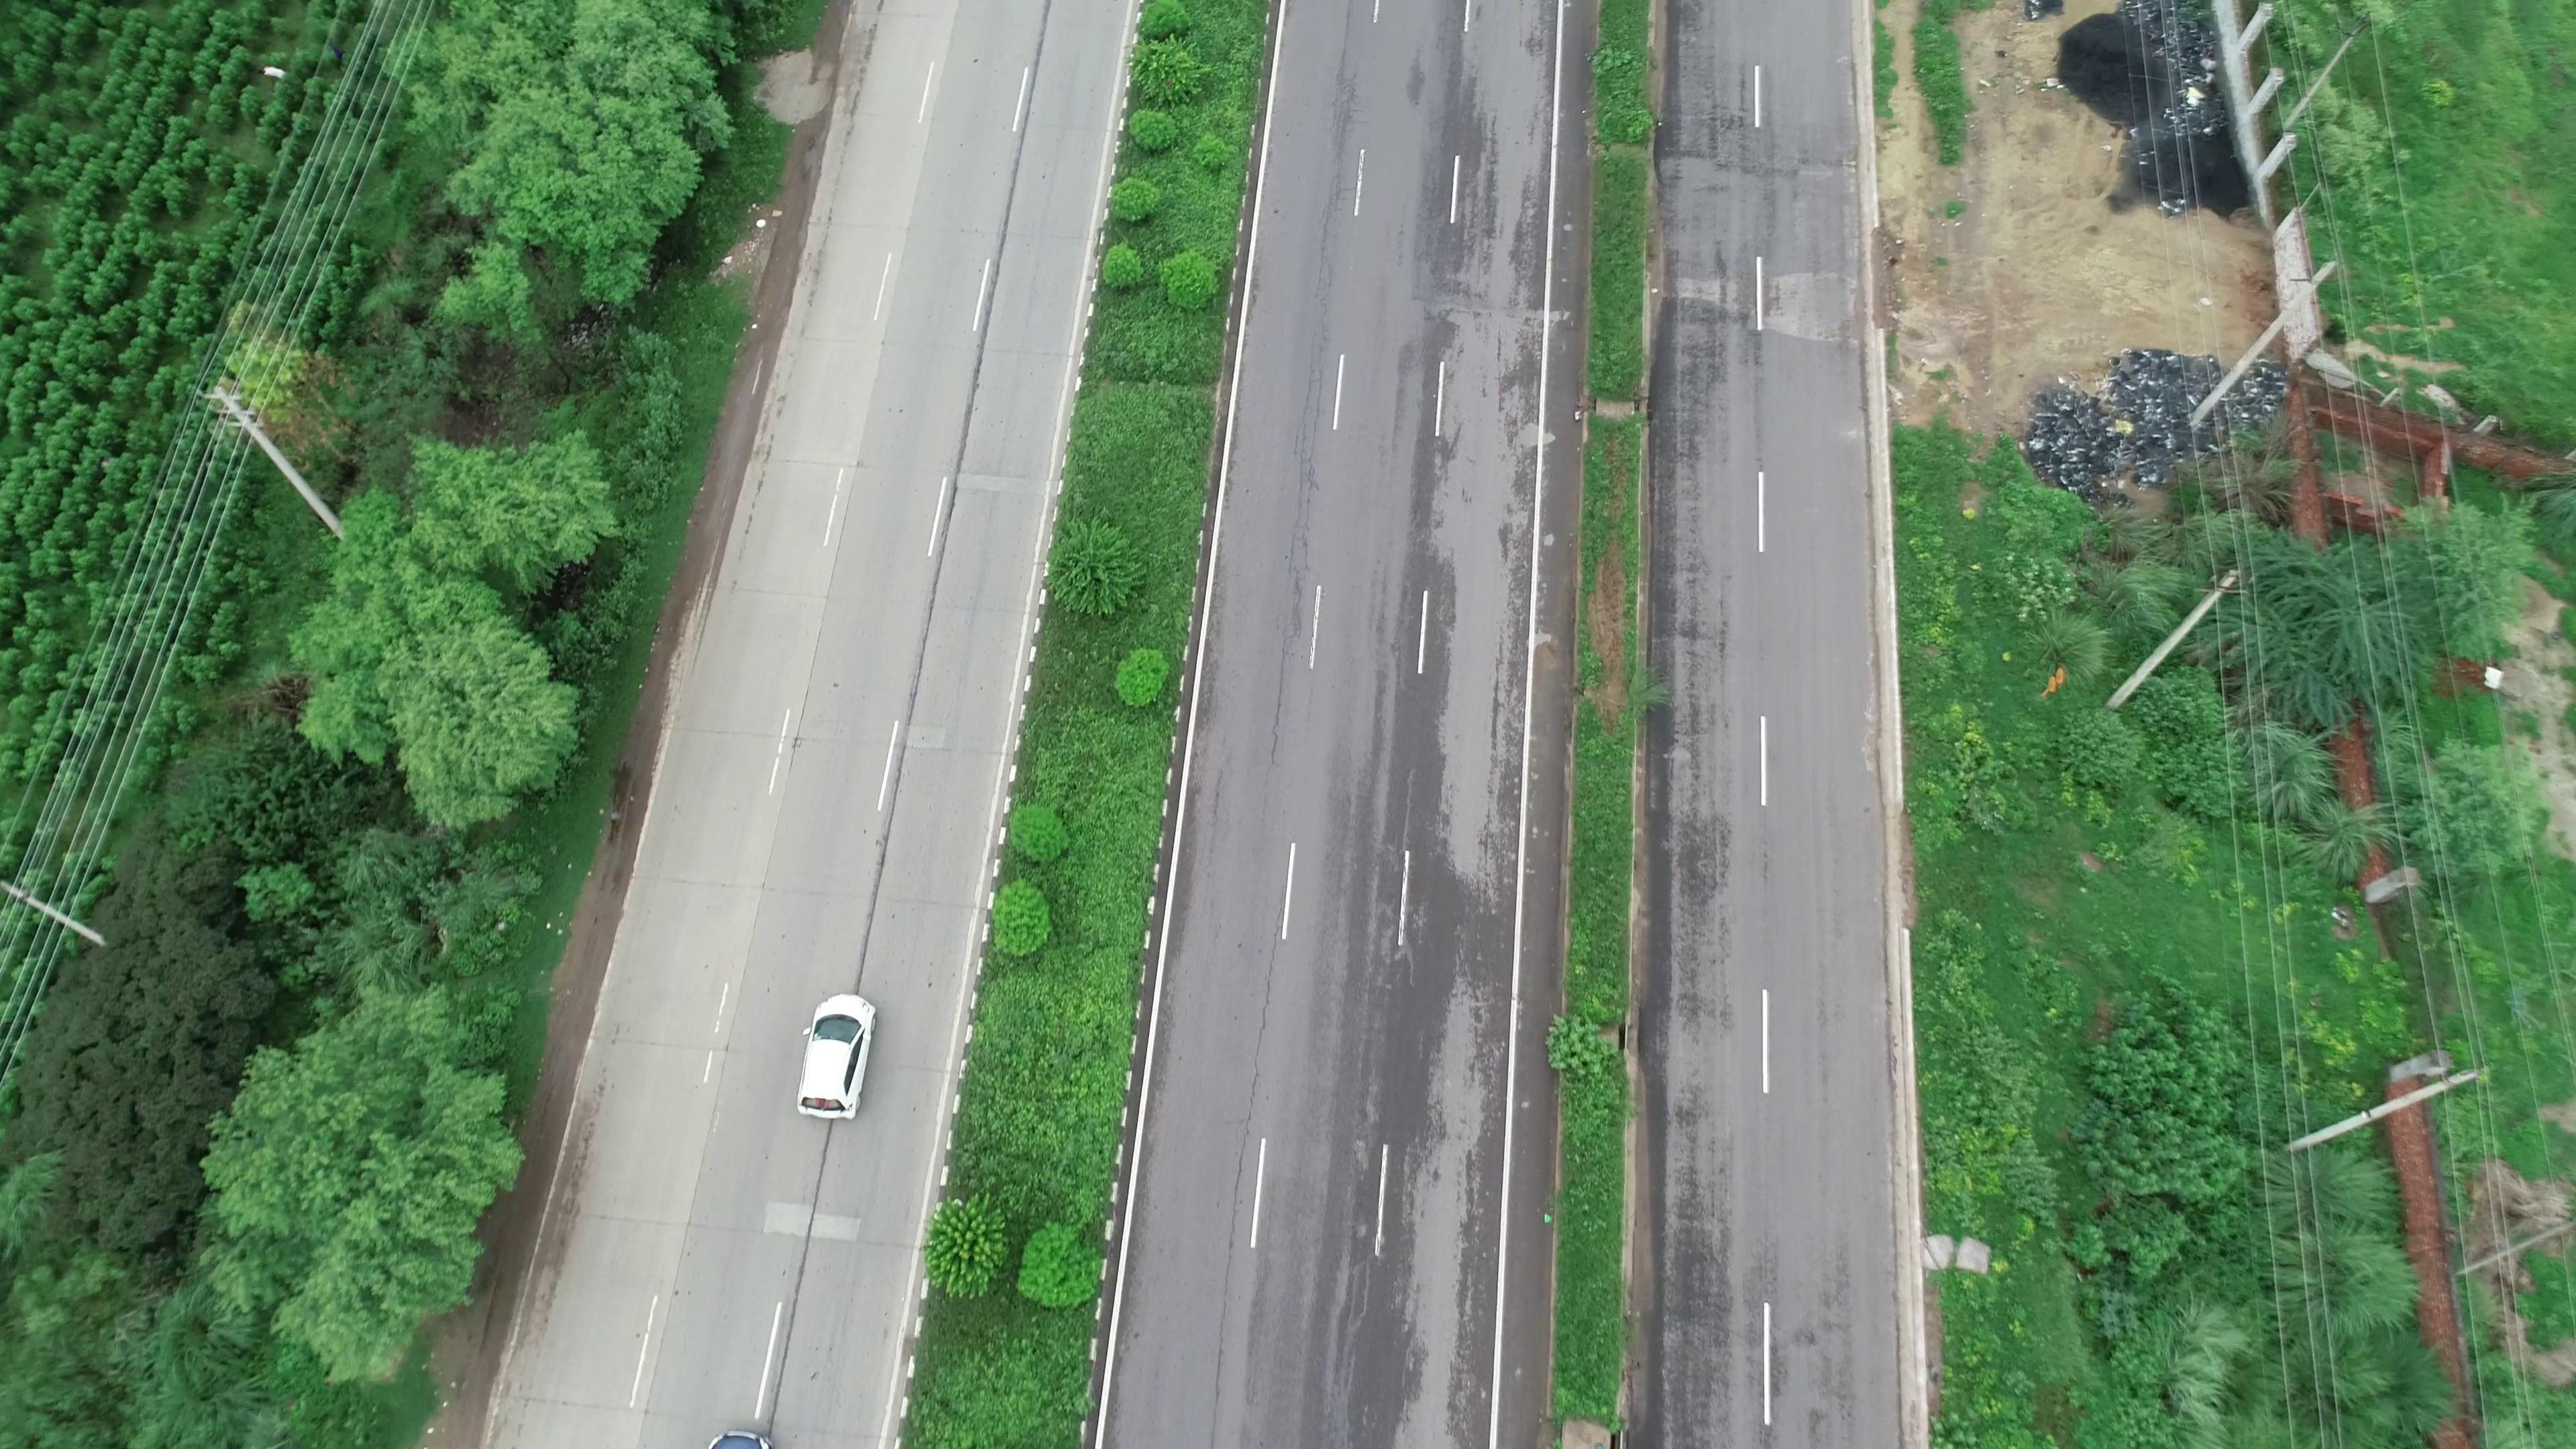Alligator_cracks: (1309, 69, 1364, 345)
Longitudinal_cracks: (1194, 925, 1283, 1430), (1254, 366, 1330, 715)
